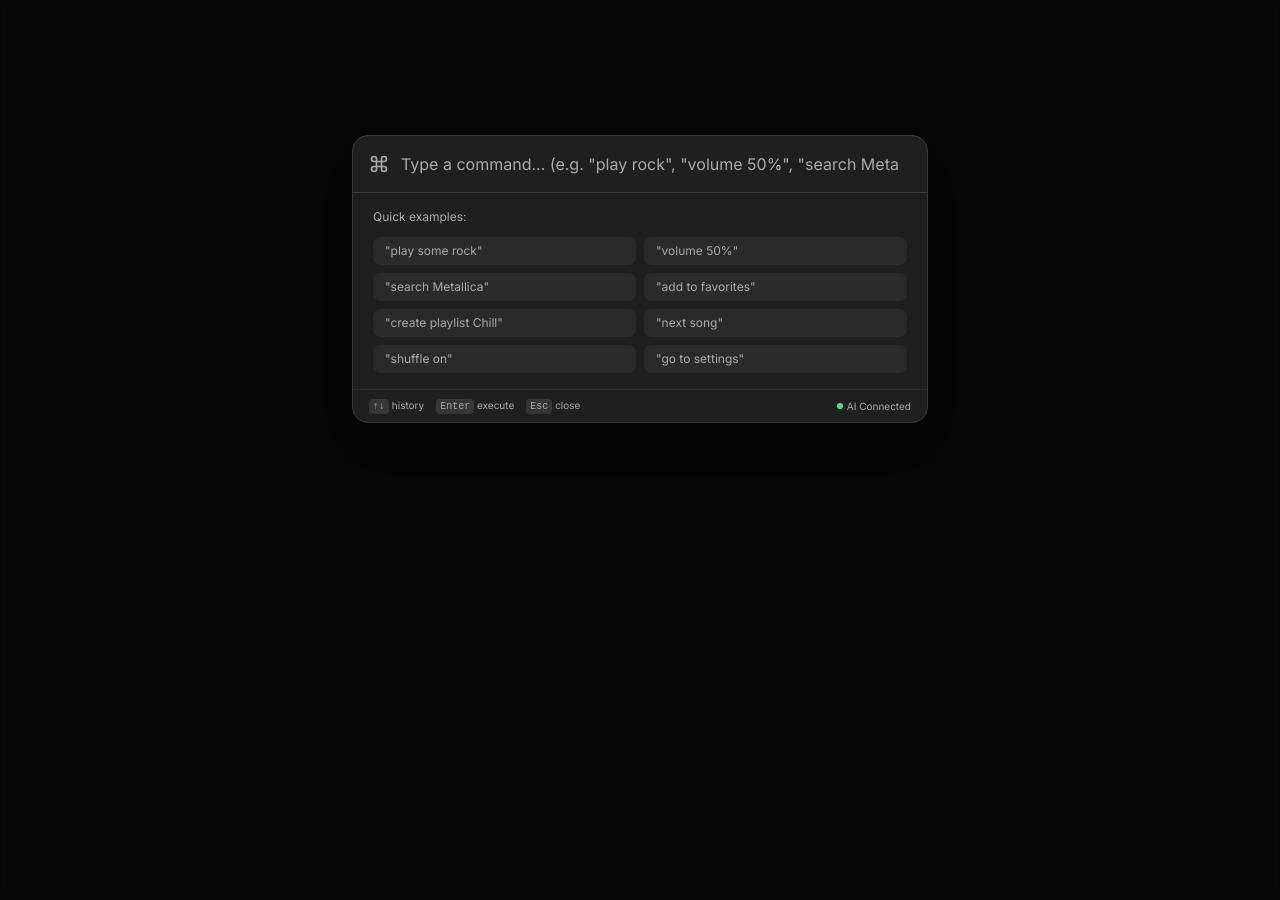
Test case: CommandBar › preserves manual input followed by Enter
The image size is (1280, 900).
Replace the text in the field with "search Abba" at coordinates (650, 164), box [389,136,911,192]
Wait 600 ms
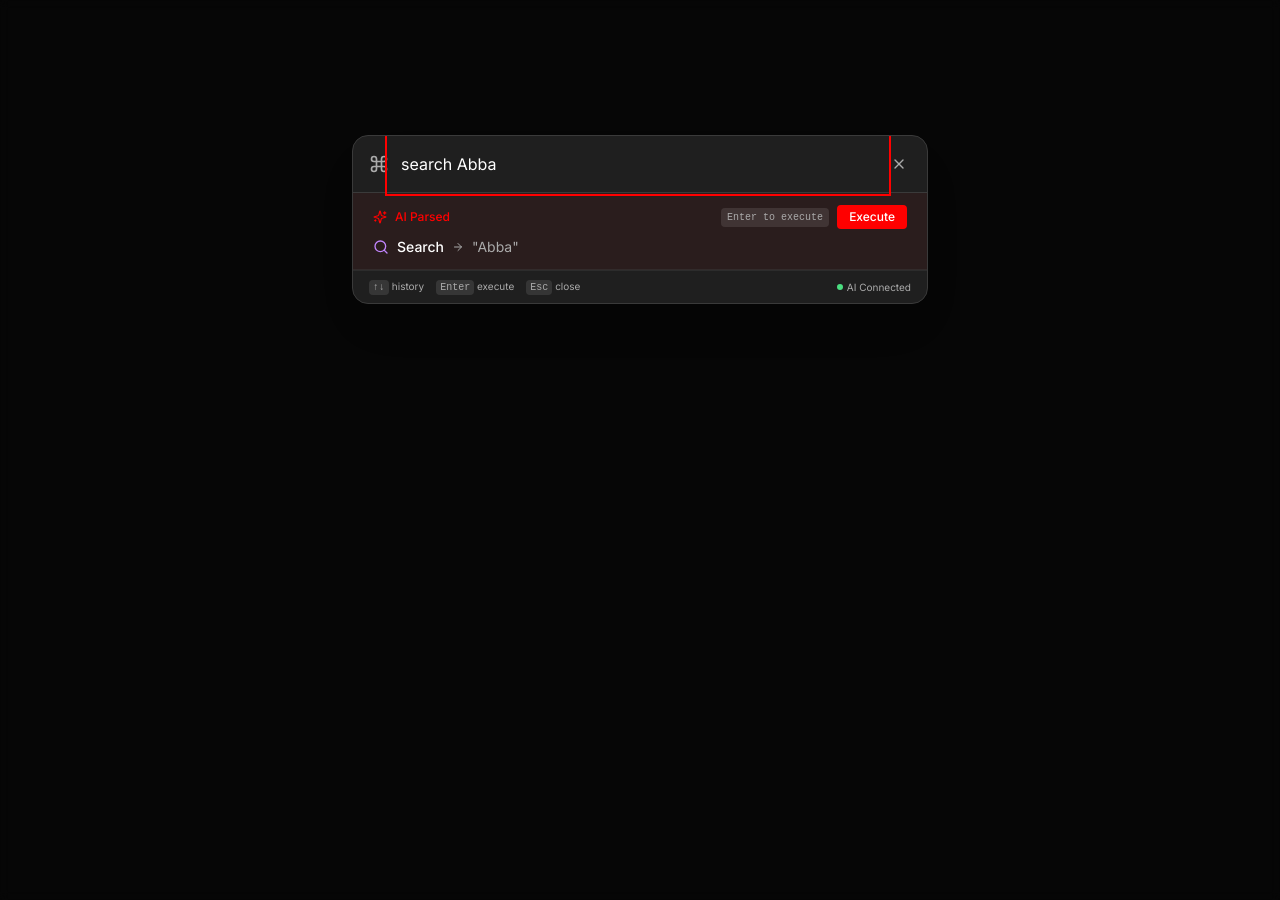
Now the button "Execute" is enabled, box [837,205,907,229]
Press Enter in the field, box [389,136,887,192]
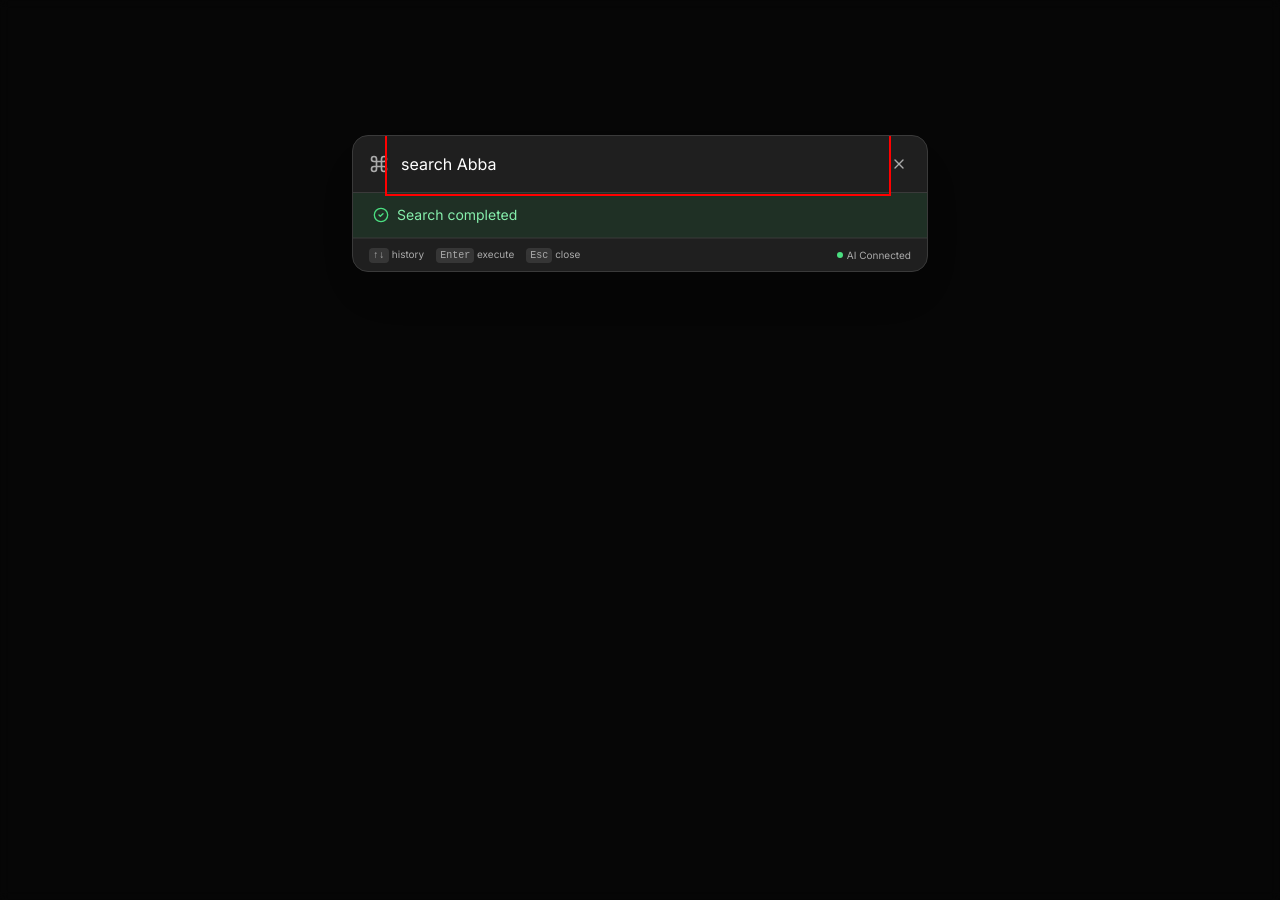
Now the text "Search completed" is shown, box [397,205,517,225]
